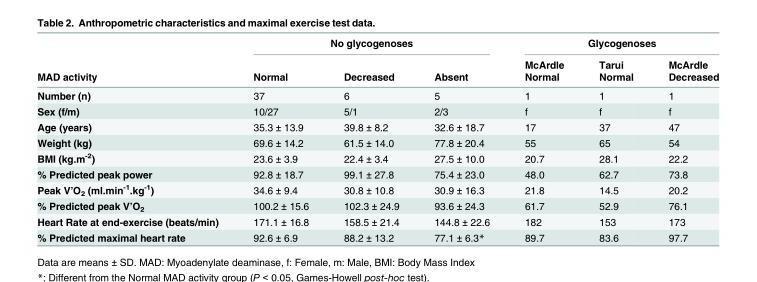table: (36, 36, 718, 243)
table column: (36, 36, 235, 243), (325, 36, 416, 243), (235, 36, 325, 243), (416, 36, 506, 243), (506, 36, 580, 243), (580, 36, 650, 243), (650, 36, 718, 243)
table column header: (36, 36, 718, 85)
table row: (36, 36, 718, 53), (36, 85, 718, 102), (36, 53, 718, 69), (36, 69, 718, 85), (36, 102, 718, 118), (36, 118, 718, 134), (36, 149, 718, 165), (36, 165, 718, 181), (36, 181, 718, 197), (36, 197, 718, 213), (36, 213, 718, 229), (36, 134, 718, 149), (36, 229, 718, 243)
table spanning cell: (36, 36, 235, 85), (235, 36, 506, 53), (506, 36, 718, 53), (325, 53, 416, 85), (235, 53, 325, 85), (416, 53, 506, 85), (506, 53, 580, 85), (580, 53, 650, 85), (650, 53, 718, 85)
